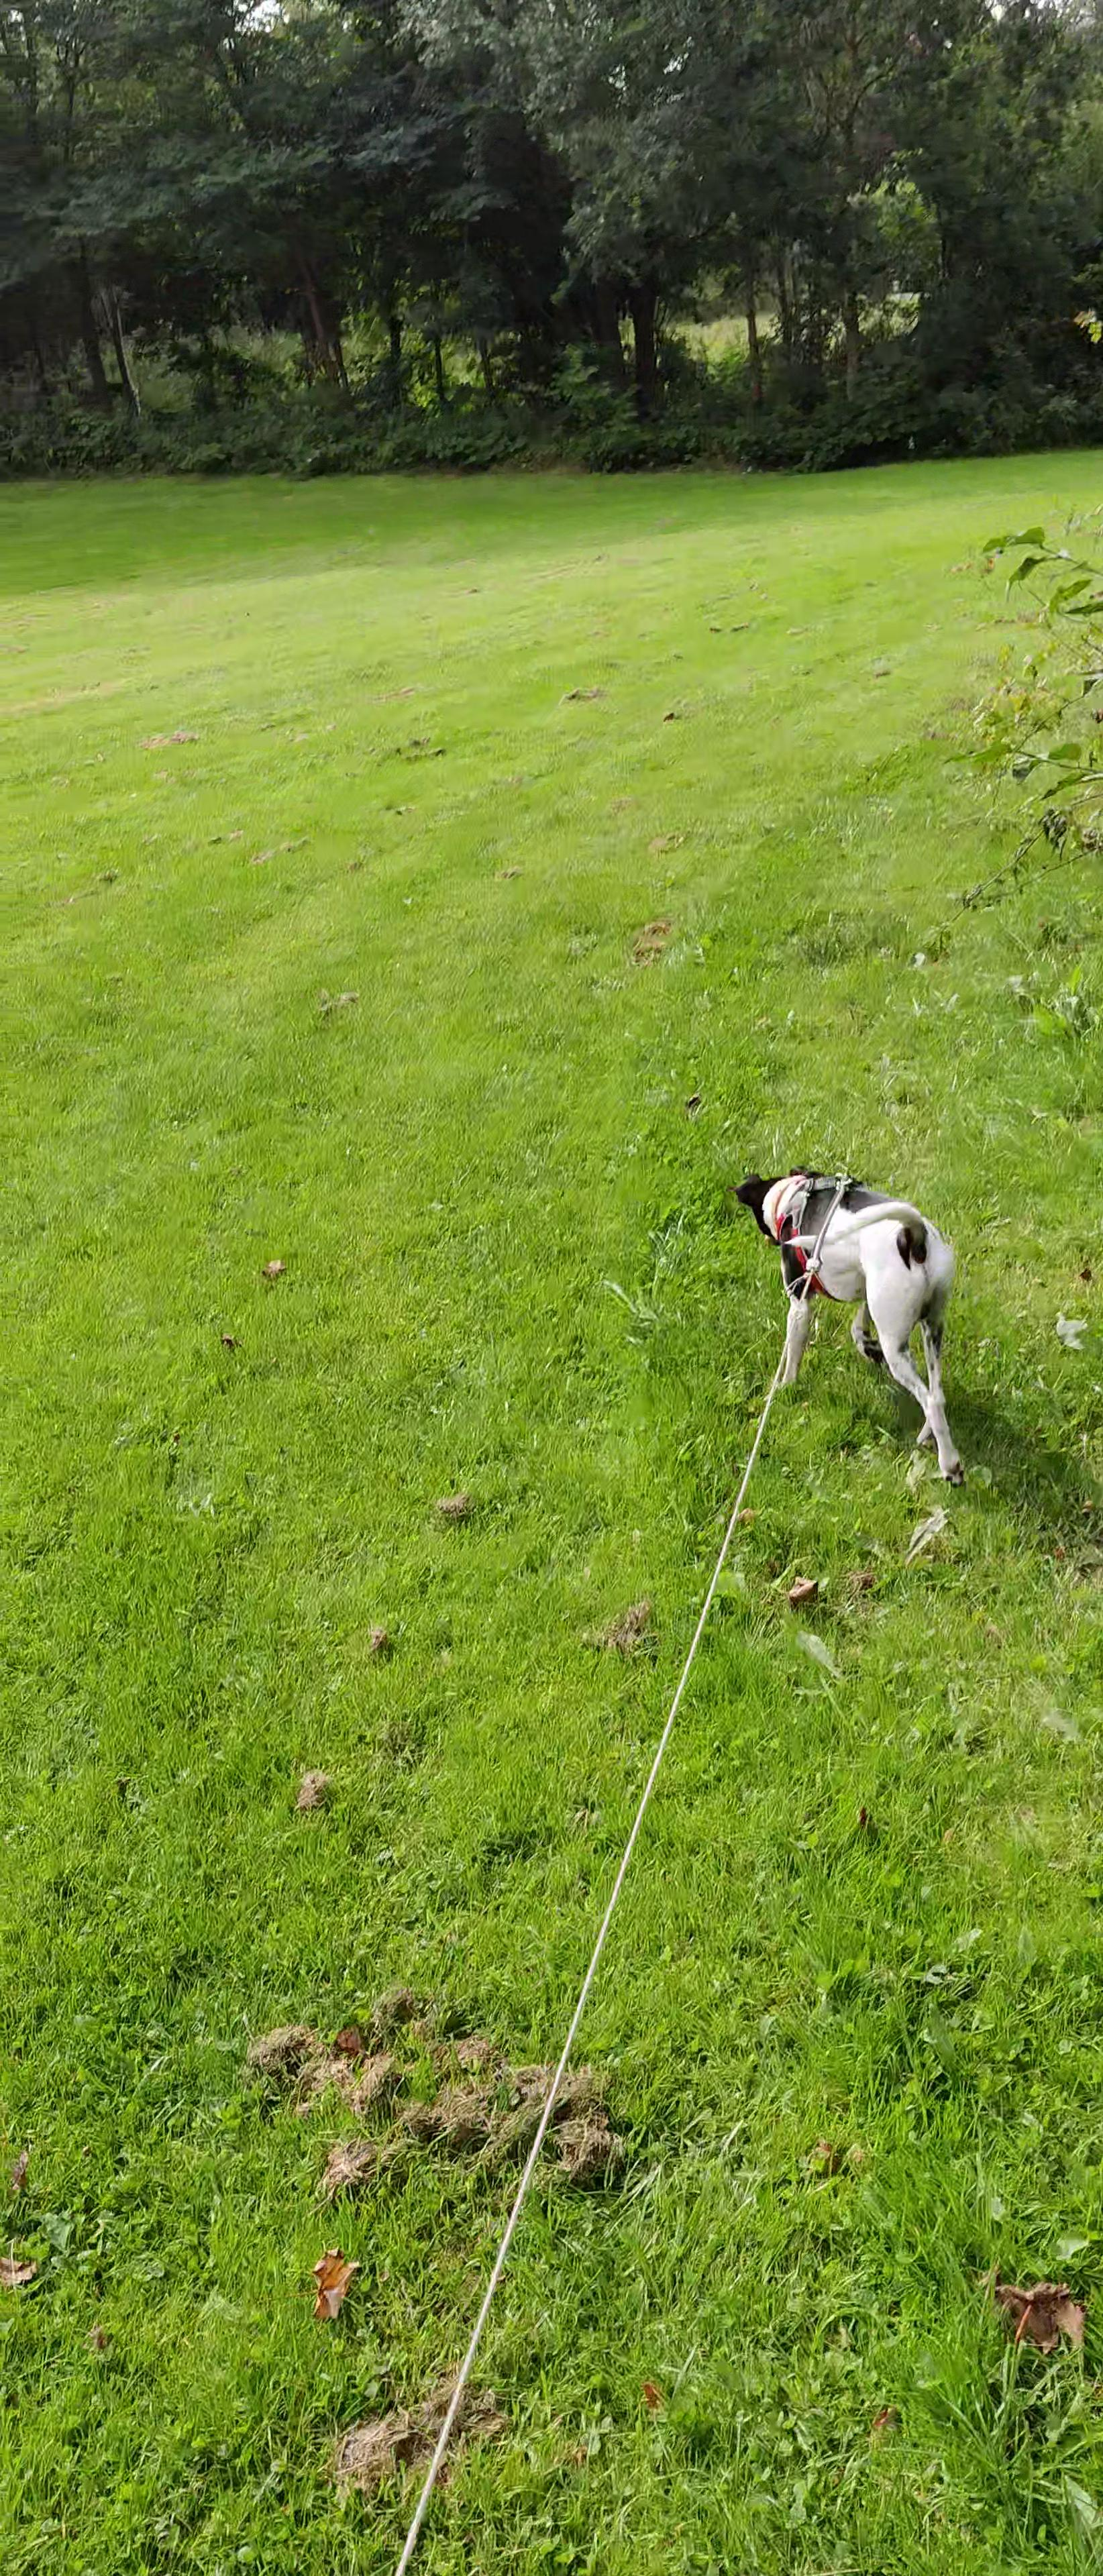Dog: (713, 1147, 980, 1493)
